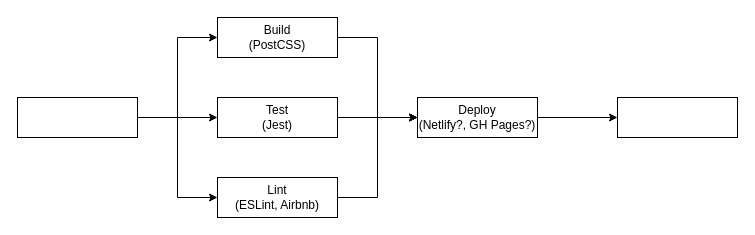
The diagram is 755 pixels wide and 235 high, and some of its shapes have lost their labels. The shapes that lost their labels are listed below. From the top down, each one's centre as x and y in pixels, then its label:
At (x=77, y=117): "Start".
At (x=677, y=117): "Done".
